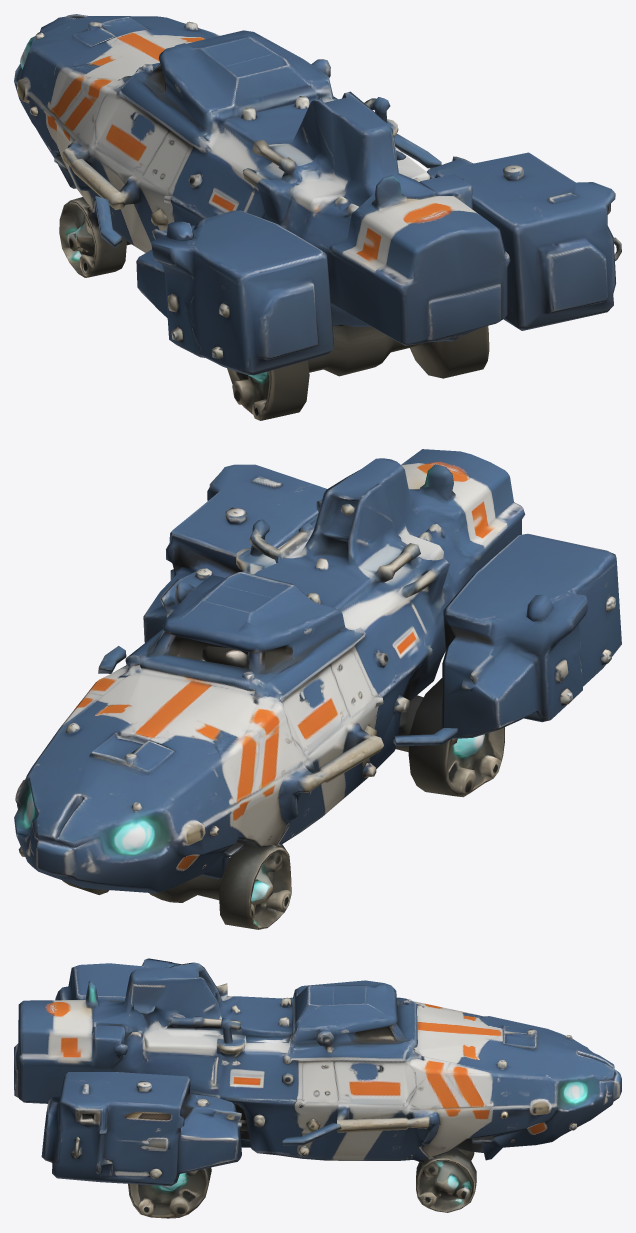
File: s_strider_lod1.fbx
3 views of the same model, one above another, from view 1: azimuth 30°, elevation 25°; view 2: azimuth 150°, elevation 25°; view 3: azimuth 270°, elevation 25° (orthographic). The views are drawn at different scales.
Parts seen in each view (by area): view 1: s_strider; view 2: s_strider; view 3: s_strider.
Part boxes in pixels (<box>): s_strider: <box>14,14,621,420</box>; s_strider: <box>14,449,621,929</box>; s_strider: <box>14,958,621,1218</box>.
Size of the model in its own units: 1.61 by 1.08 by 2.8.
